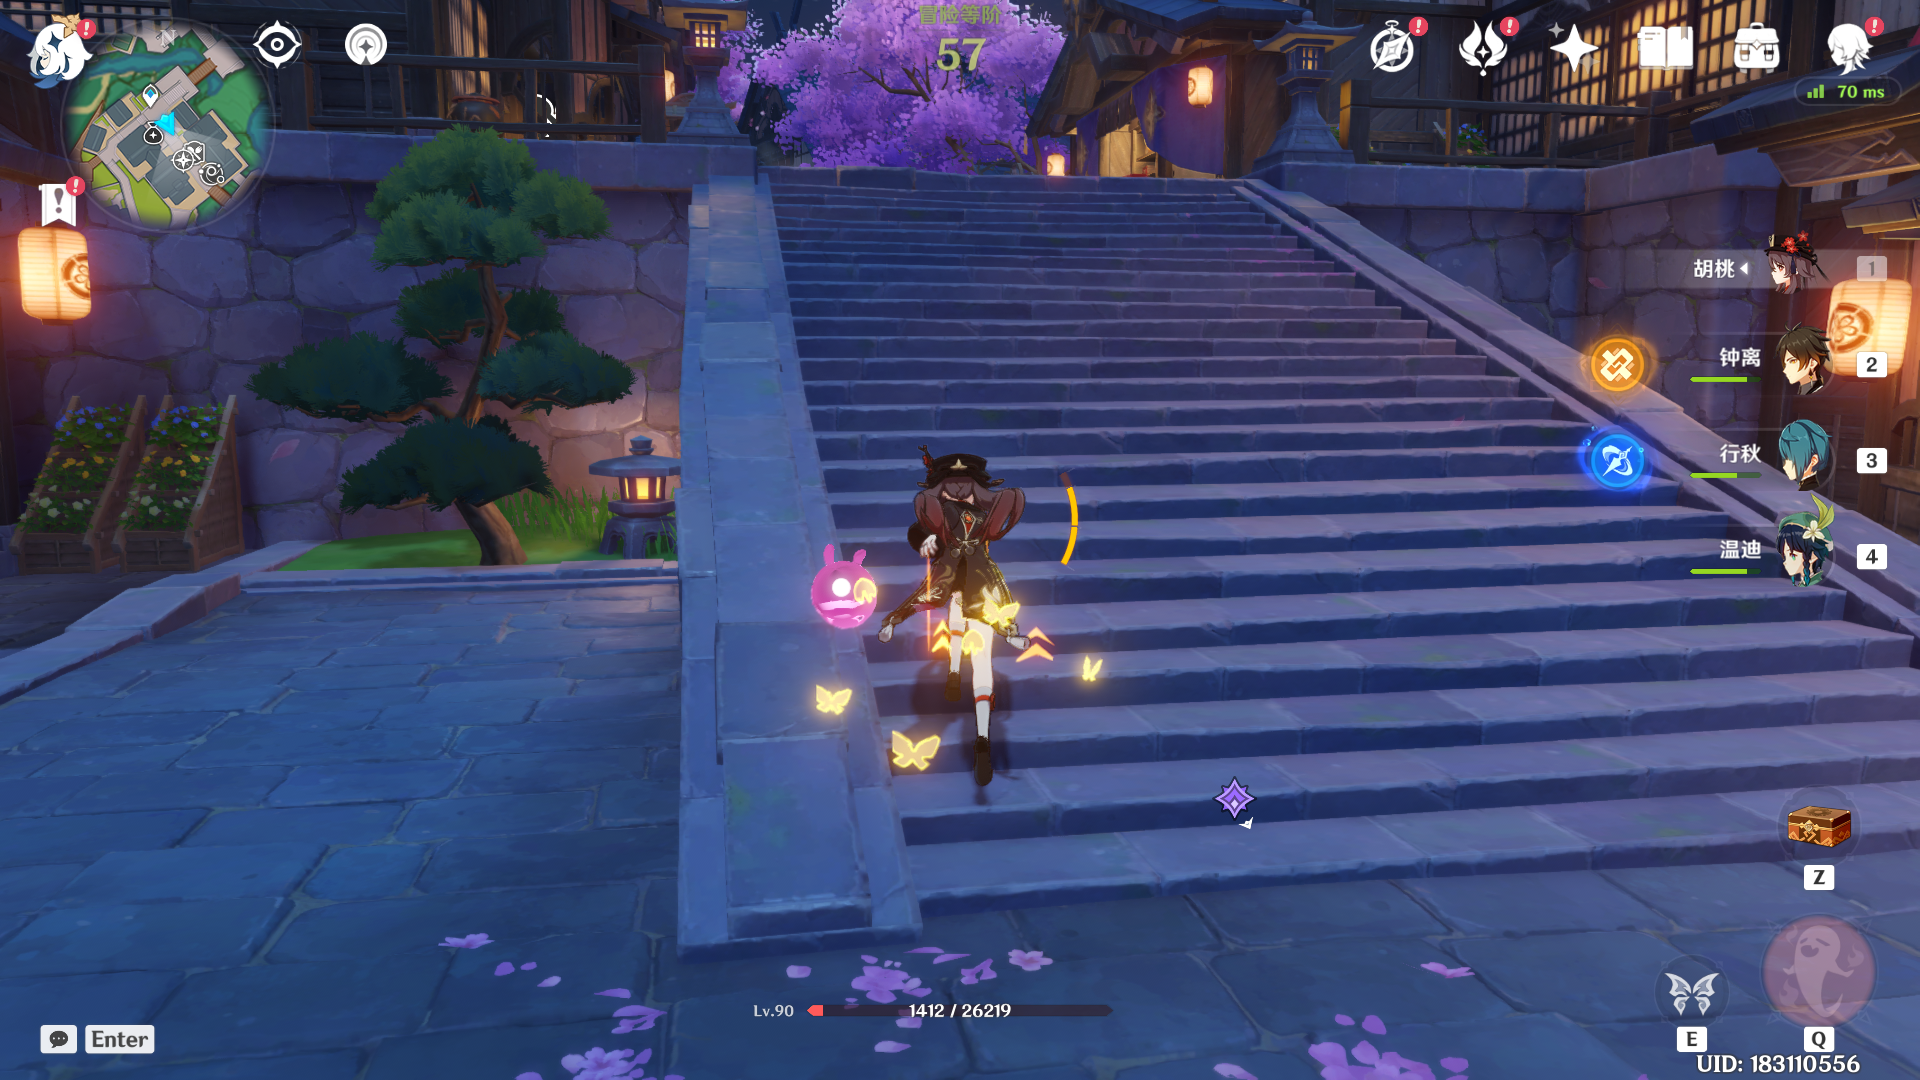character: (855, 415, 1095, 799)
